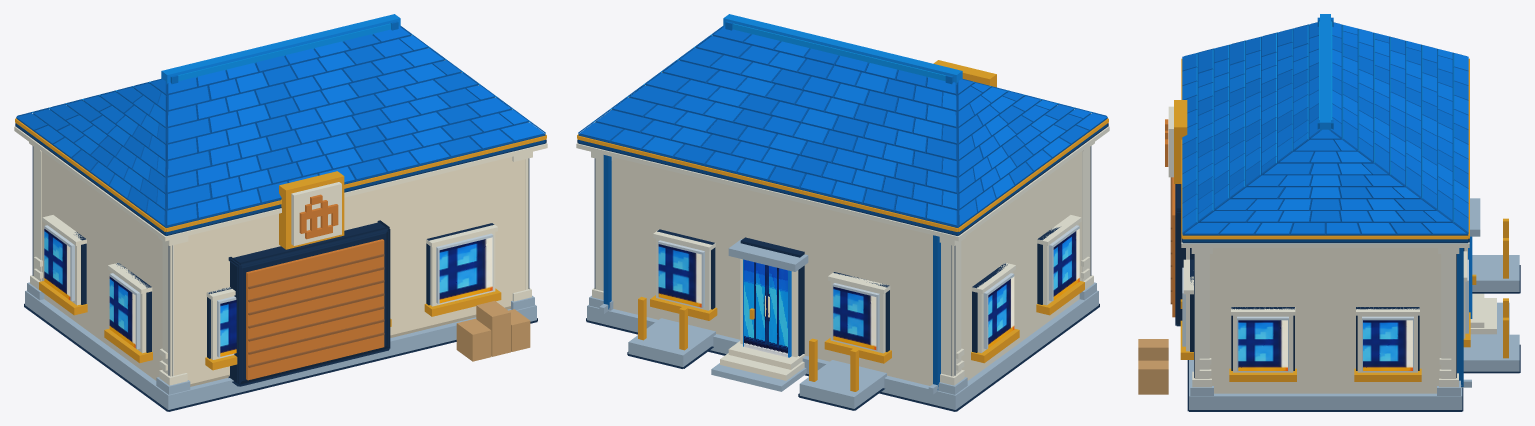
3 views of the same model, side by side, from view 1: azimuth 30°, elevation 25°; view 2: azimuth 150°, elevation 25°; view 3: azimuth 270°, elevation 25° (orthographic). The views are drawn at different scales.
Visible parts, largest first — view 1: B10 资源配送站; view 2: B10 资源配送站; view 3: B10 资源配送站.
Part boxes in pixels (box(x1,y1,x2,y2)): B10 资源配送站: box(14, 14, 547, 411); B10 资源配送站: box(576, 14, 1109, 411); B10 资源配送站: box(1138, 14, 1520, 411).
Size of the model in its own units: 7.64 by 5.13 by 6.91.
2 materials, 1 textured.
